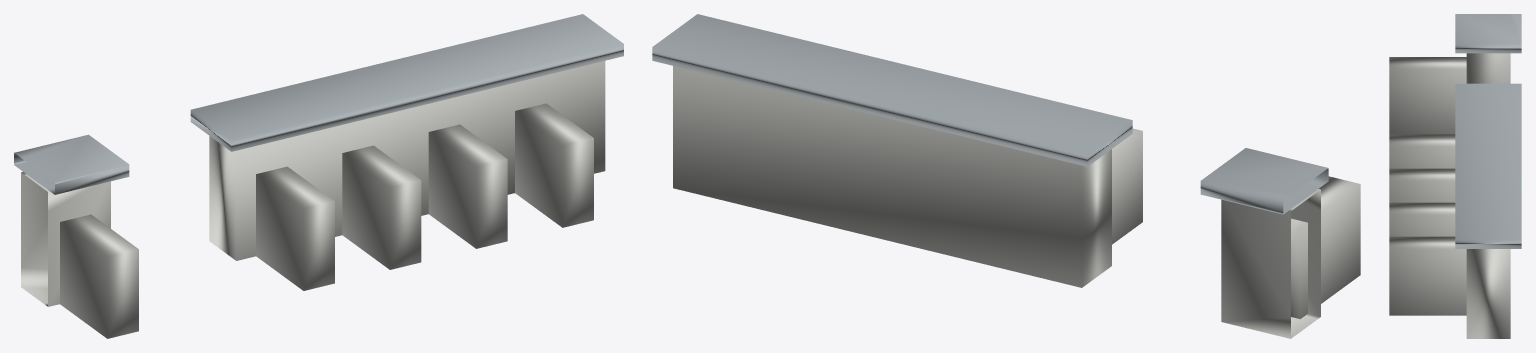
The model's file is alpine-3-11.glb.
3 renders of one model, left to right at view 1: azimuth 30°, elevation 25°; view 2: azimuth 150°, elevation 25°; view 3: azimuth 270°, elevation 25°, orthographic. The views are drawn at different scales.
Parts seen in each view (by area): view 1: alpine-3-11; view 2: alpine-3-11; view 3: alpine-3-11.
Part boxes in pixels (left/top/right/bottom): alpine-3-11: left=14, top=14, right=623, bottom=338; alpine-3-11: left=652, top=14, right=1360, bottom=338; alpine-3-11: left=1389, top=14, right=1521, bottom=338.
Size of the model in its own units: 145 by 31.5 by 36.
Materials: 2 (2 with a texture image).
